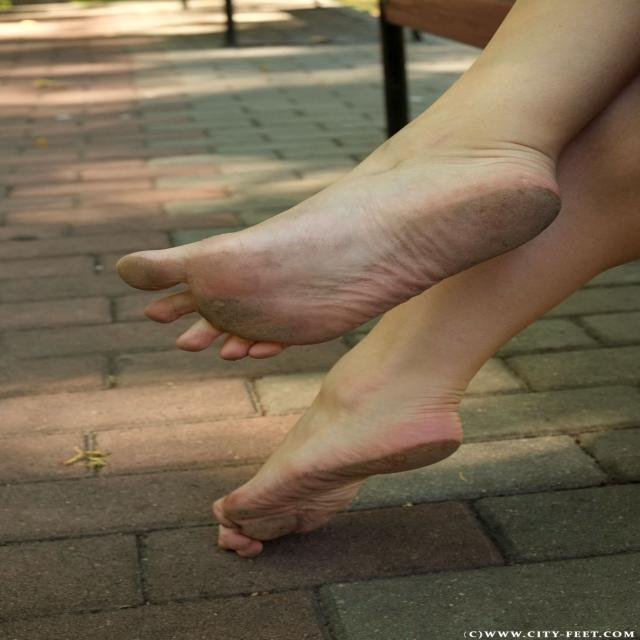Barefoots: (116, 168, 562, 360), (212, 412, 463, 558)
